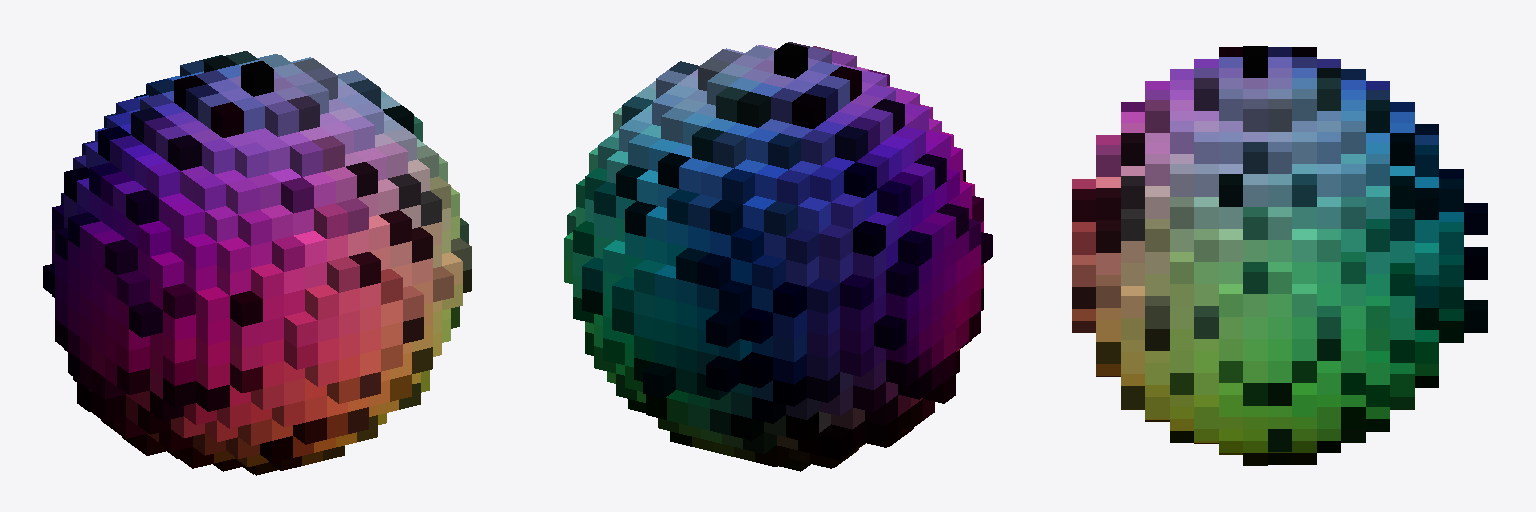
Rendered from iter_75.obj.
3 renders of one model, left to right at view 1: azimuth 30°, elevation 25°; view 2: azimuth 150°, elevation 25°; view 3: azimuth 270°, elevation 25°, orthographic.
Visible parts, largest first — view 1: iter_75; view 2: iter_75; view 3: iter_75.
Boxes of the visible parts, <box> form: iter_75: <box>43,51,471,475</box>; iter_75: <box>564,42,992,471</box>; iter_75: <box>1072,46,1487,465</box>.
Size of the model in its own units: 1.6 by 1.8 by 1.7.